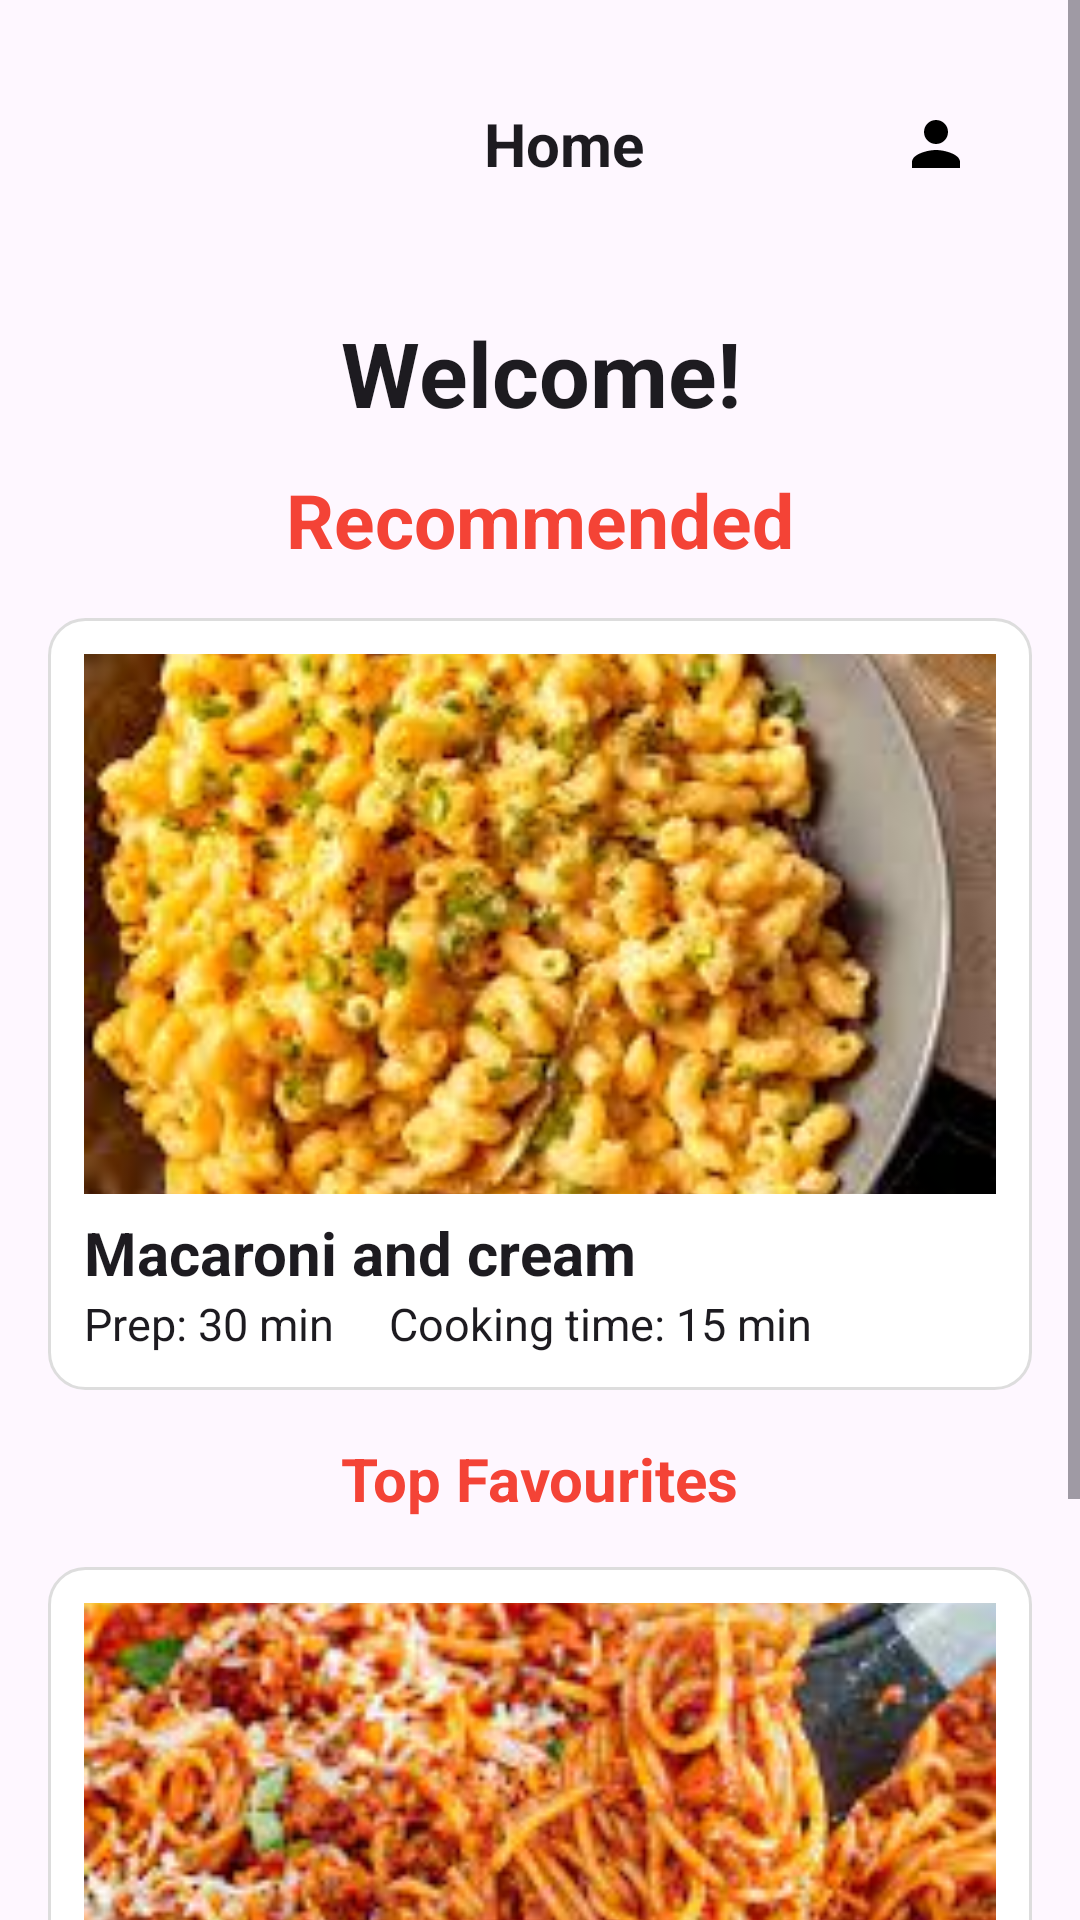

Named icons in this screenshot (1080×1920) and their centers, (x,y):
Profile: (936,144)
